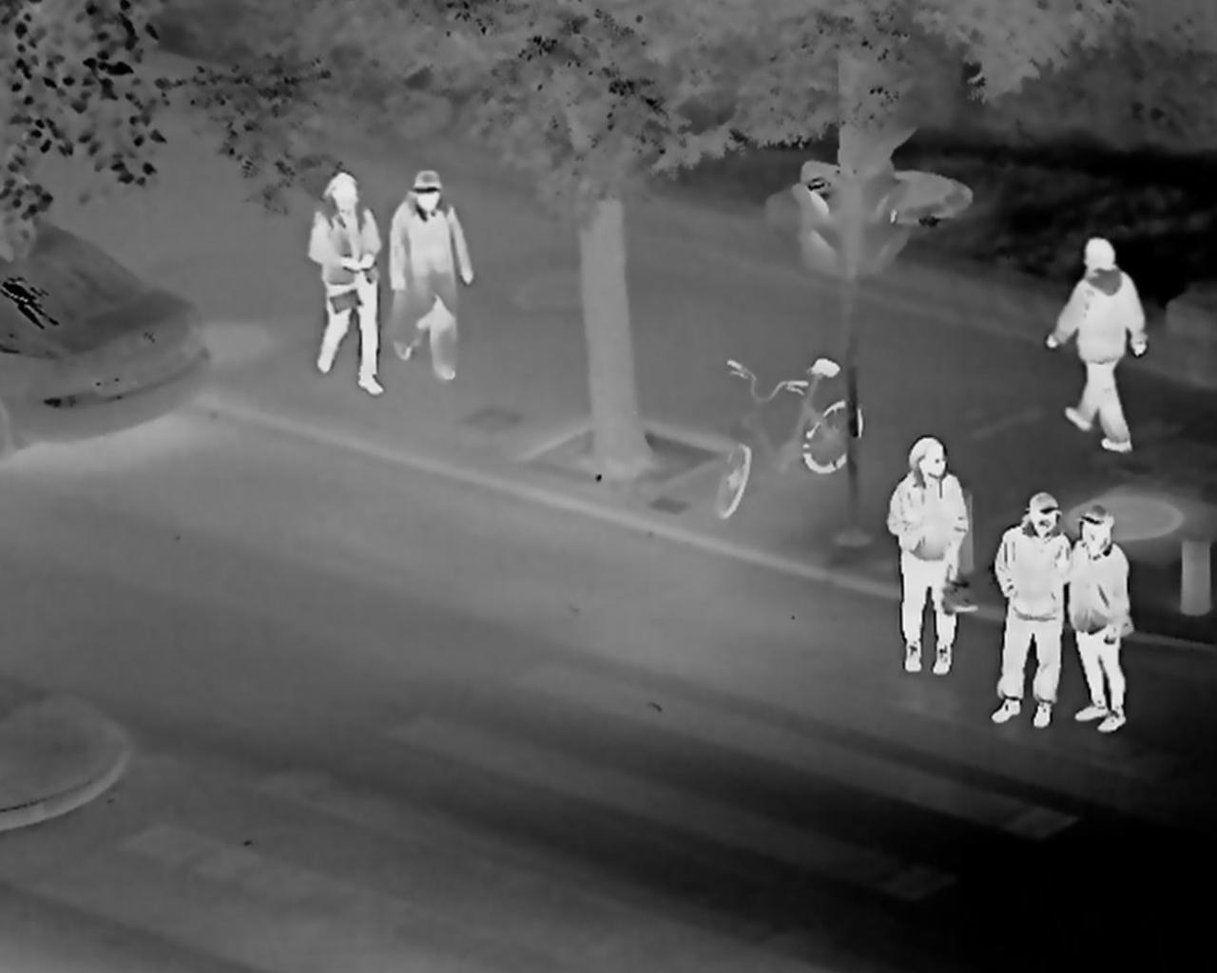person: (1049, 236, 1145, 455), (882, 437, 967, 677), (384, 171, 474, 384), (306, 172, 386, 396), (1063, 504, 1139, 734), (995, 493, 1061, 730)
